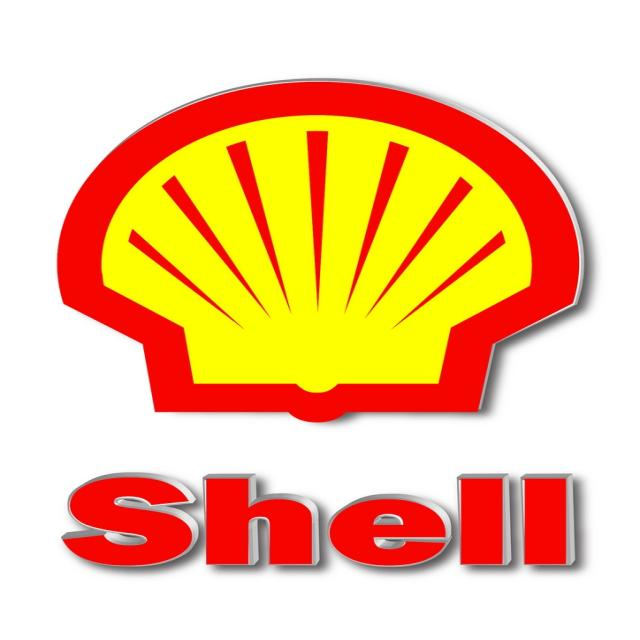shell: (58, 80, 586, 425)
